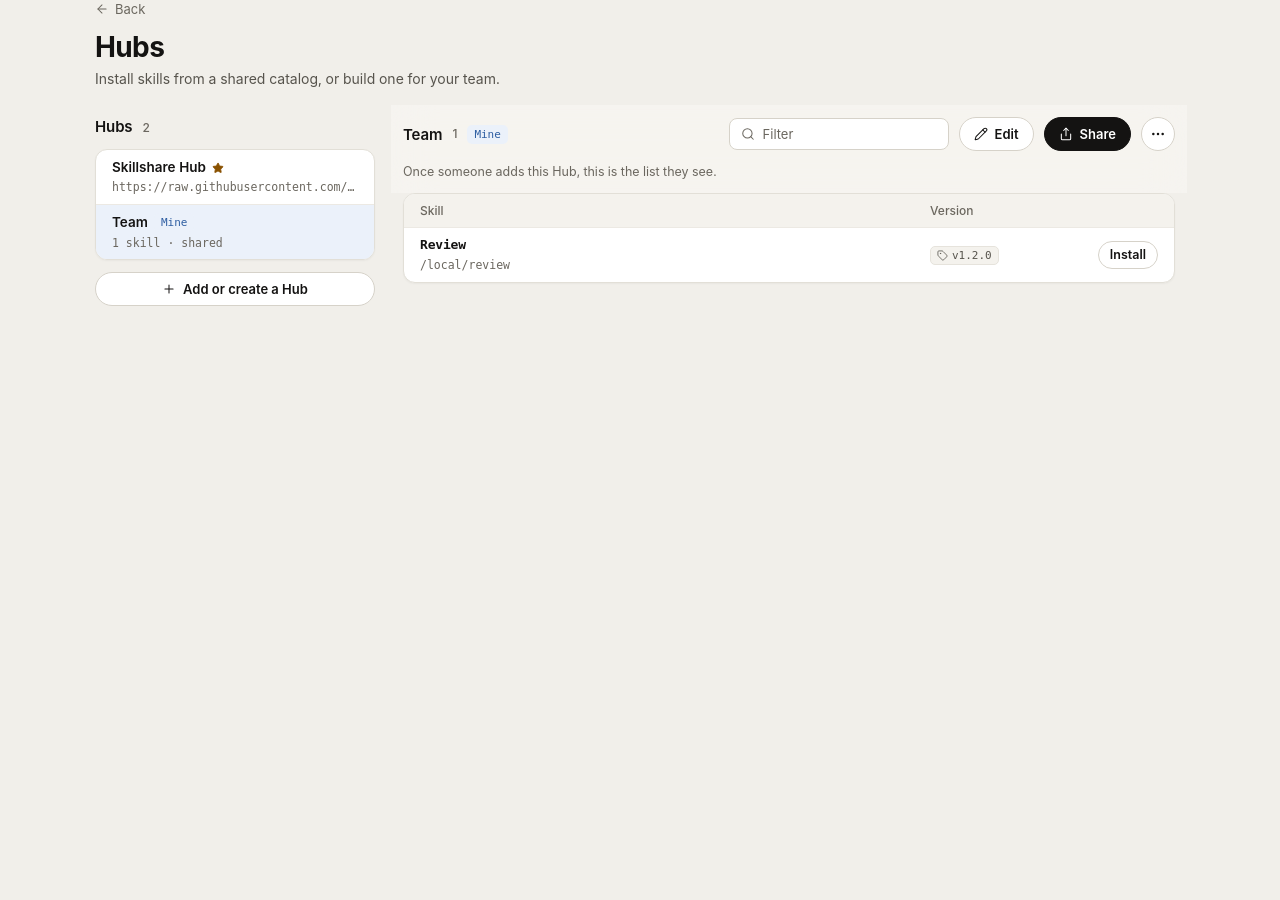
Test: confirms deletion
What coordinates should you click on to do the following:
click the button named "More actions"
I would click on:
 (1158, 134)
Its box is [1141,117,1175,151].
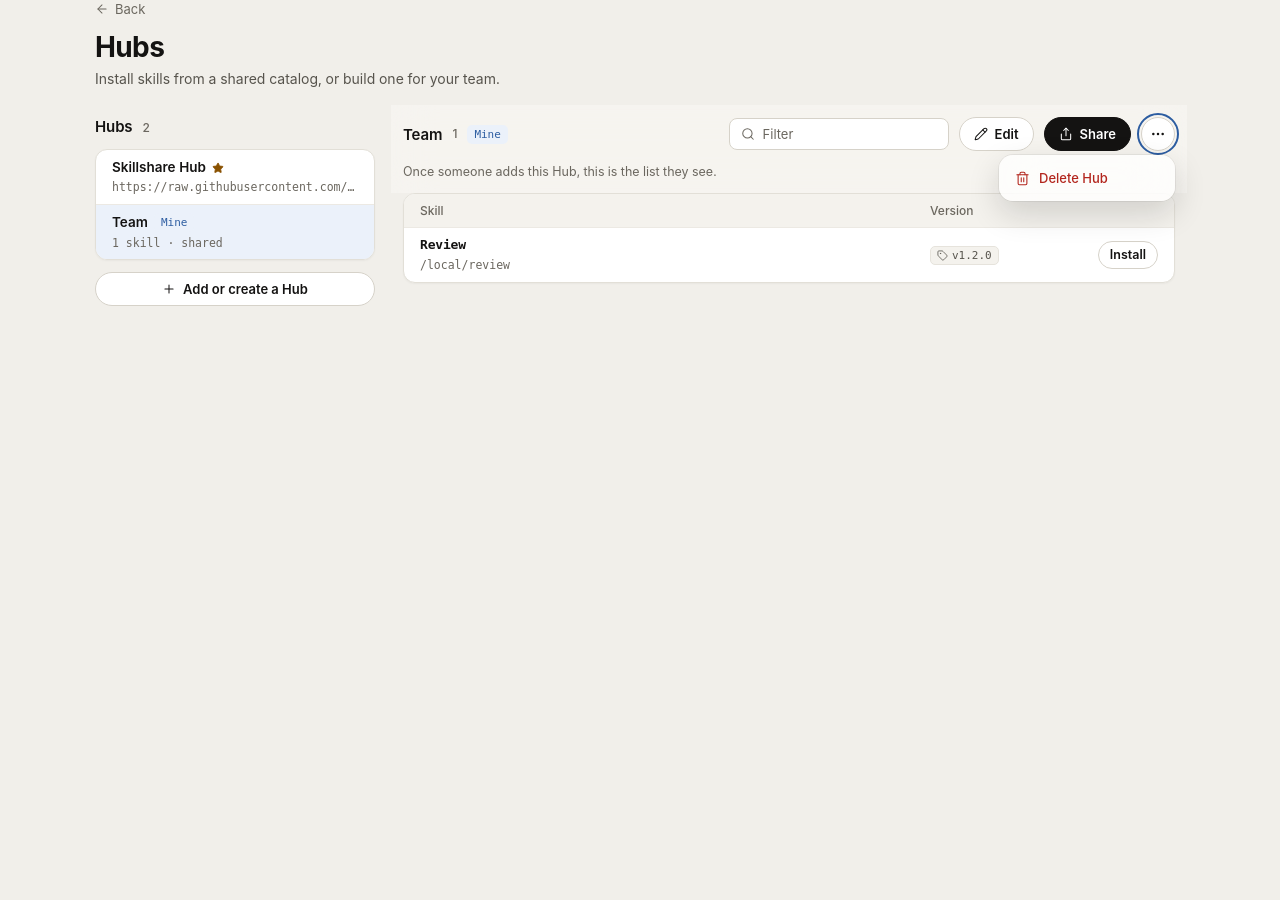
What coordinates should you click on to do the following:
click the menu item "Delete Hub"
I would click on:
 (1087, 178)
Its box is [1006,162,1168,194].
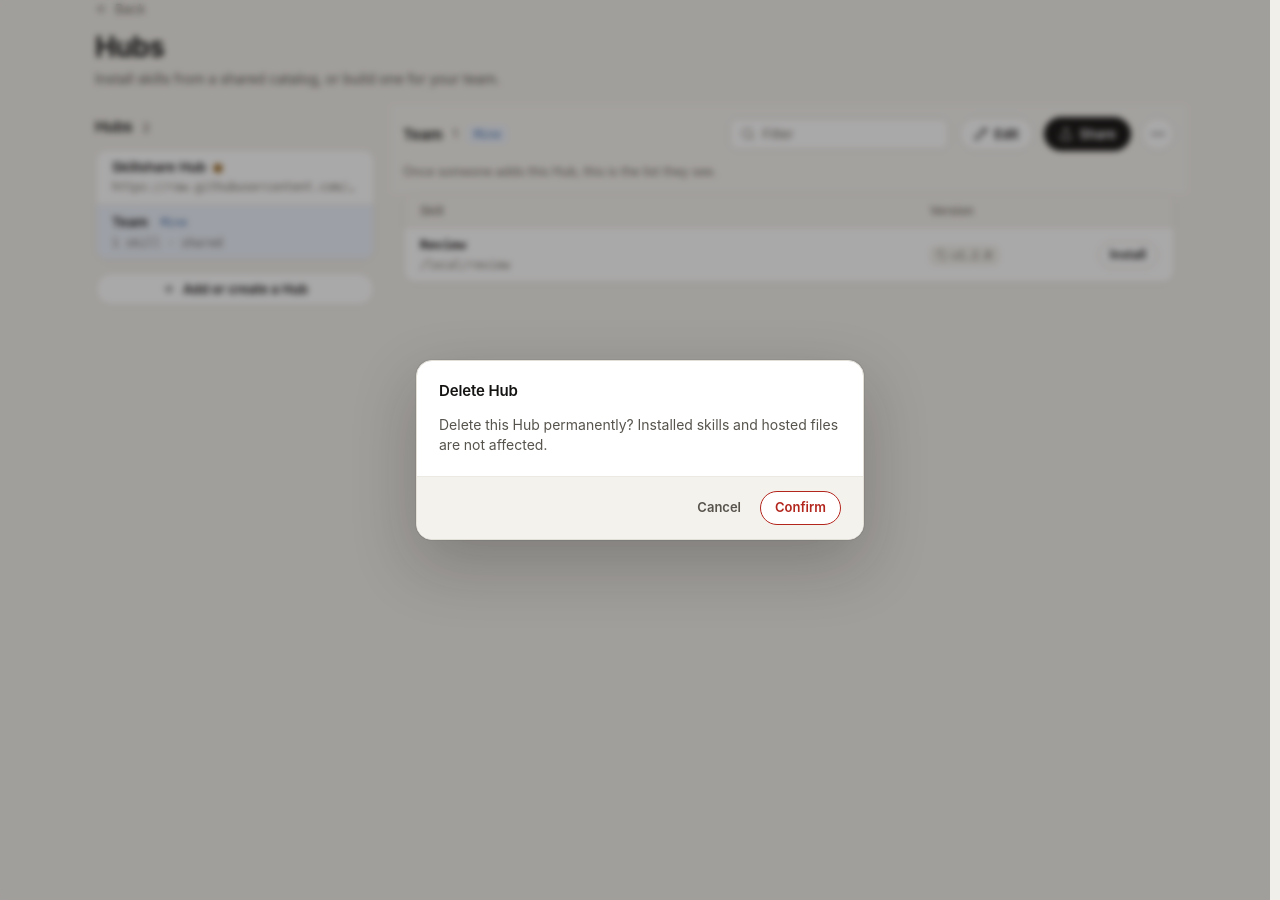
Expected: the dialog shows "Delete this Hub permanently?", [439,416,838,453]
